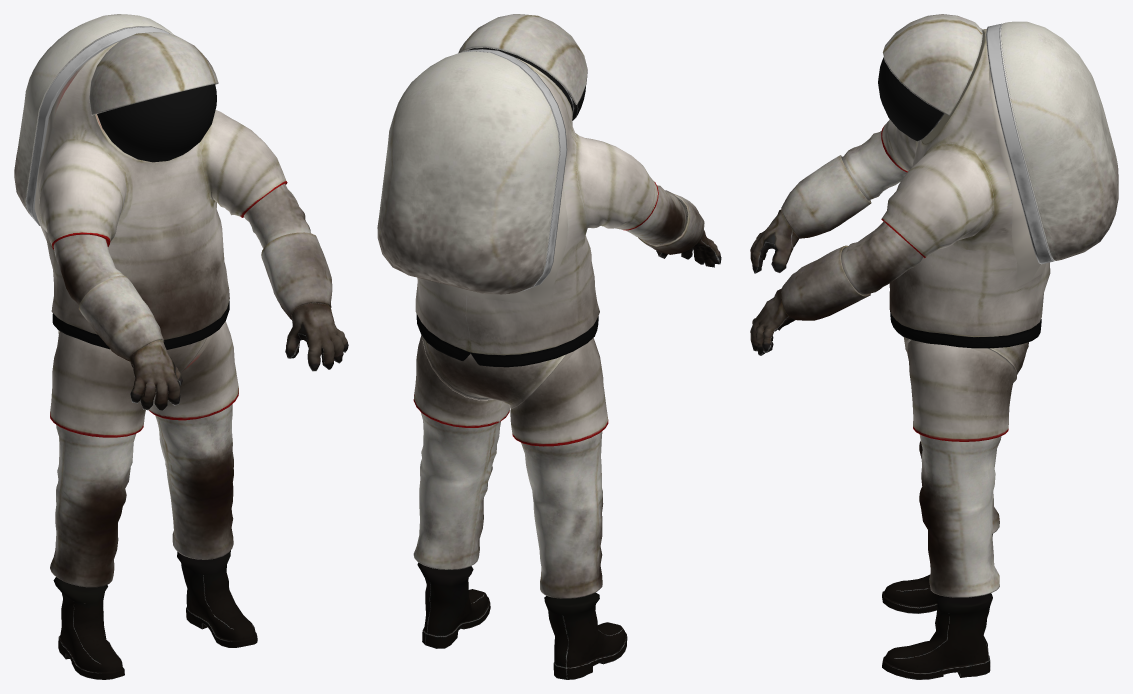
Rendered from Z2_bigv4.obj.
3 renders of one model, left to right at view 1: azimuth 30°, elevation 25°; view 2: azimuth 150°, elevation 25°; view 3: azimuth 270°, elevation 25°, orthographic. The views are drawn at different scales.
Parts seen in each view (by area): view 1: mmGroup0, mmGroup1; view 2: mmGroup0, mmGroup1, mmGroup31; view 3: mmGroup0, mmGroup1.
Boxes of the visible parts, x1=… form: mmGroup0: x1=14, y1=14, x2=348, y2=679; mmGroup1: x1=34, y1=42, x2=287, y2=349; mmGroup0: x1=377, y1=14, x2=721, y2=679; mmGroup1: x1=415, y1=58, x2=658, y2=367; mmGroup31: x1=544, y1=592, x2=599, y2=607; mmGroup0: x1=750, y1=14, x2=1118, y2=679; mmGroup1: x1=881, y1=29, x2=1050, y2=348.
Size of the model in its own units: 804 by 1956 by 1054.
